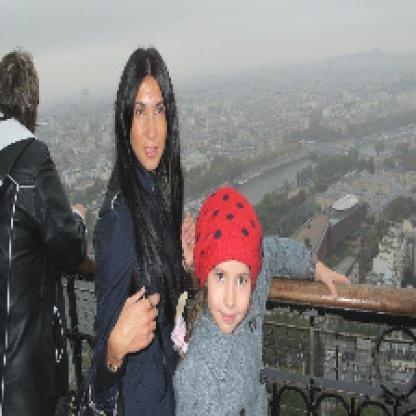child: (172, 183, 352, 415)
